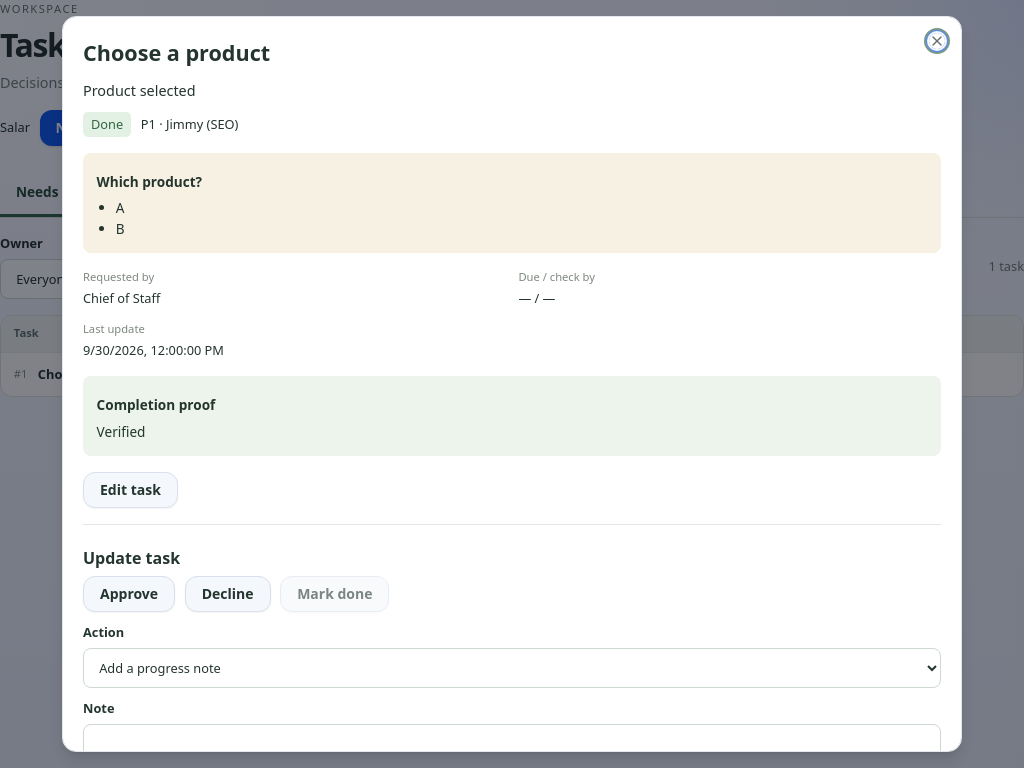
Scenario: lets managers edit progress on completed tasks belonging to another owner
This screenshot has width=1024, height=768.
Click the button "Edit task" at point(130, 490), box [83, 472, 178, 508]
(page scrolled)
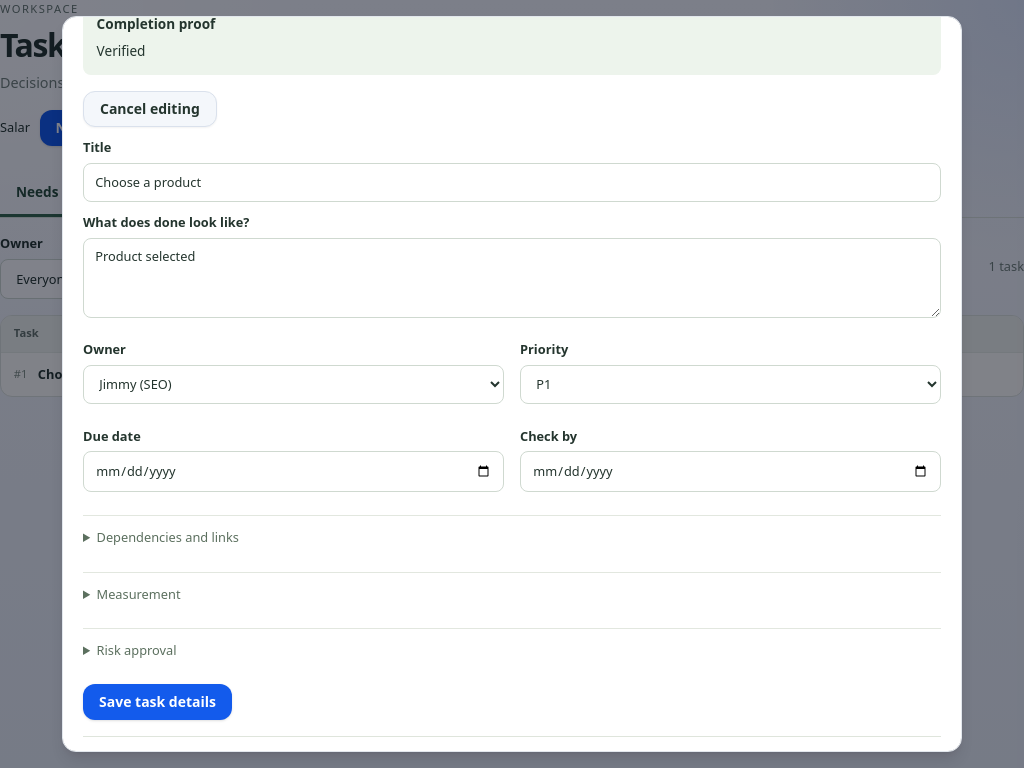
Expected: the dropdown labelled "Priority" is enabled, [520, 365, 941, 404]
Expected: the date field labelled "Due date" is enabled, [83, 451, 504, 492]
